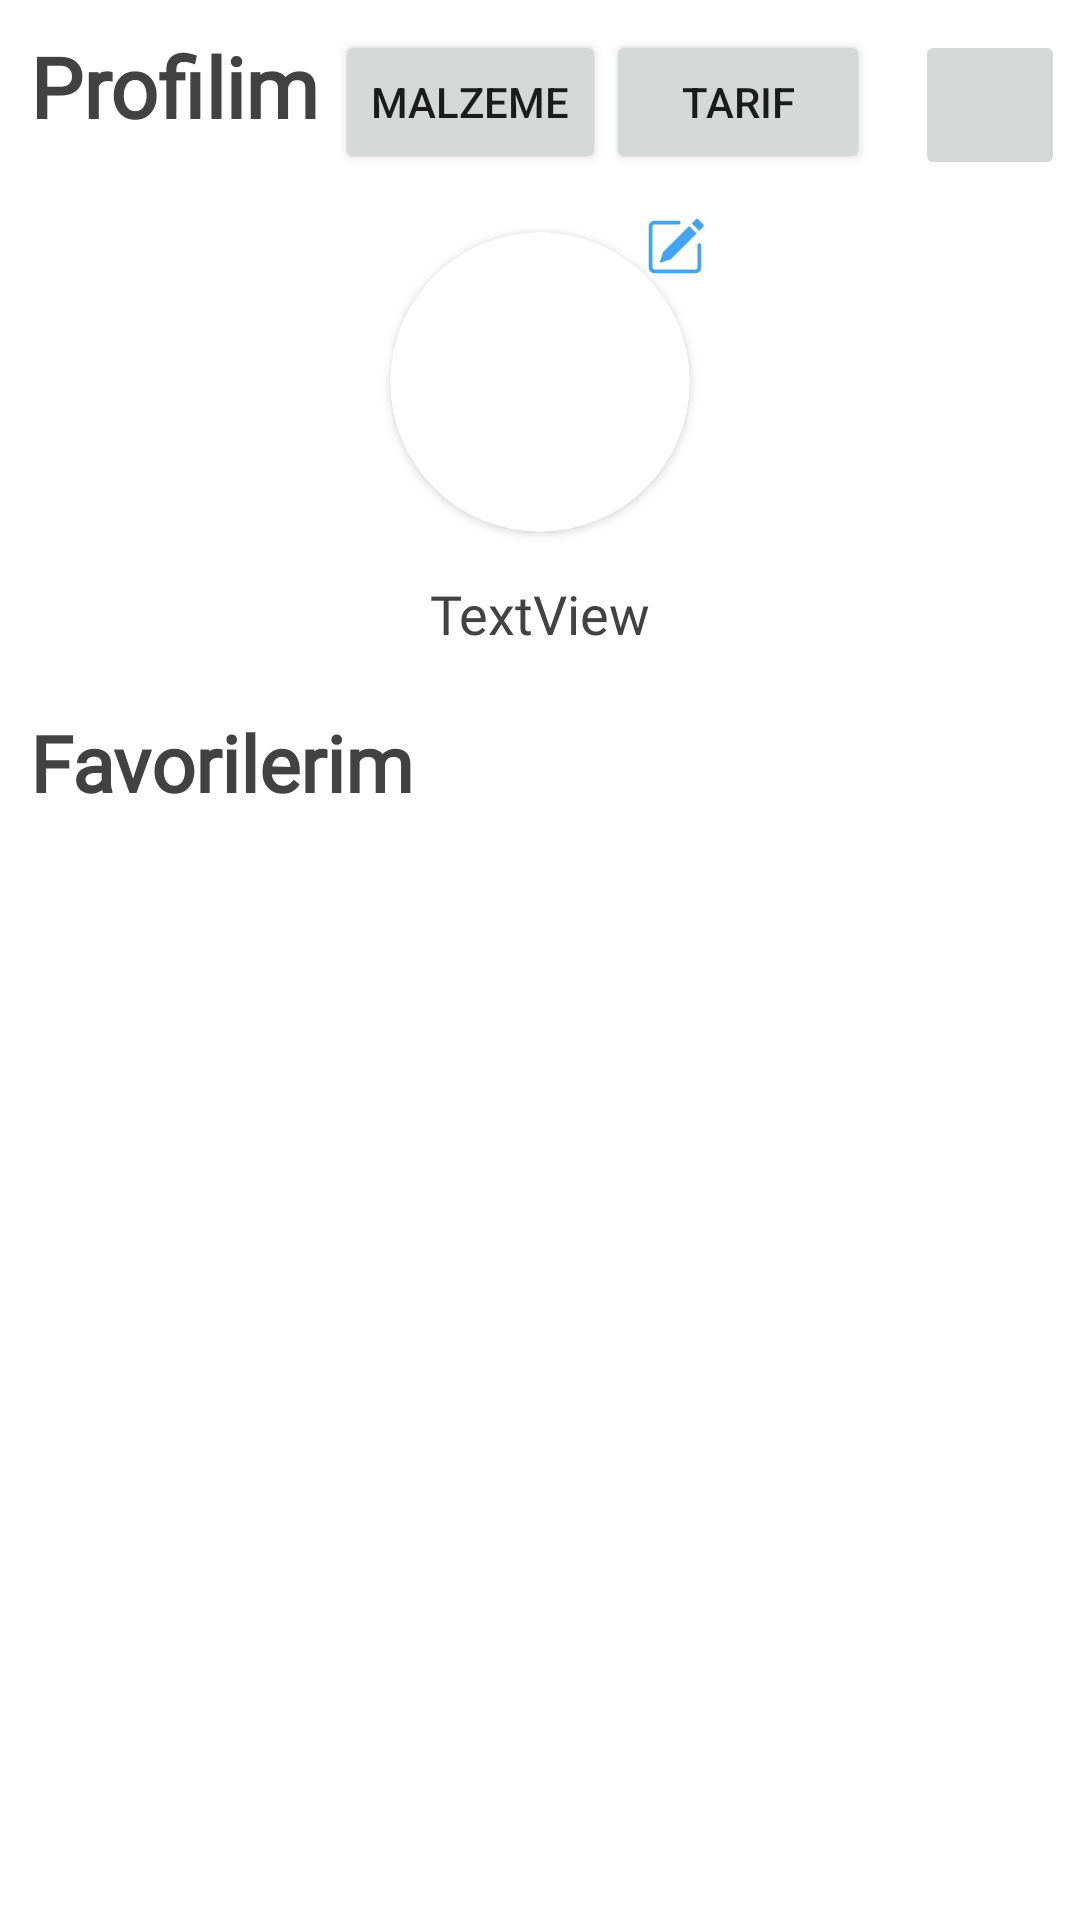

Screen size 1080 x 1920. Icon name, then its center in pixels as (x=x, y=y):
pencil square: (x=676, y=246)
